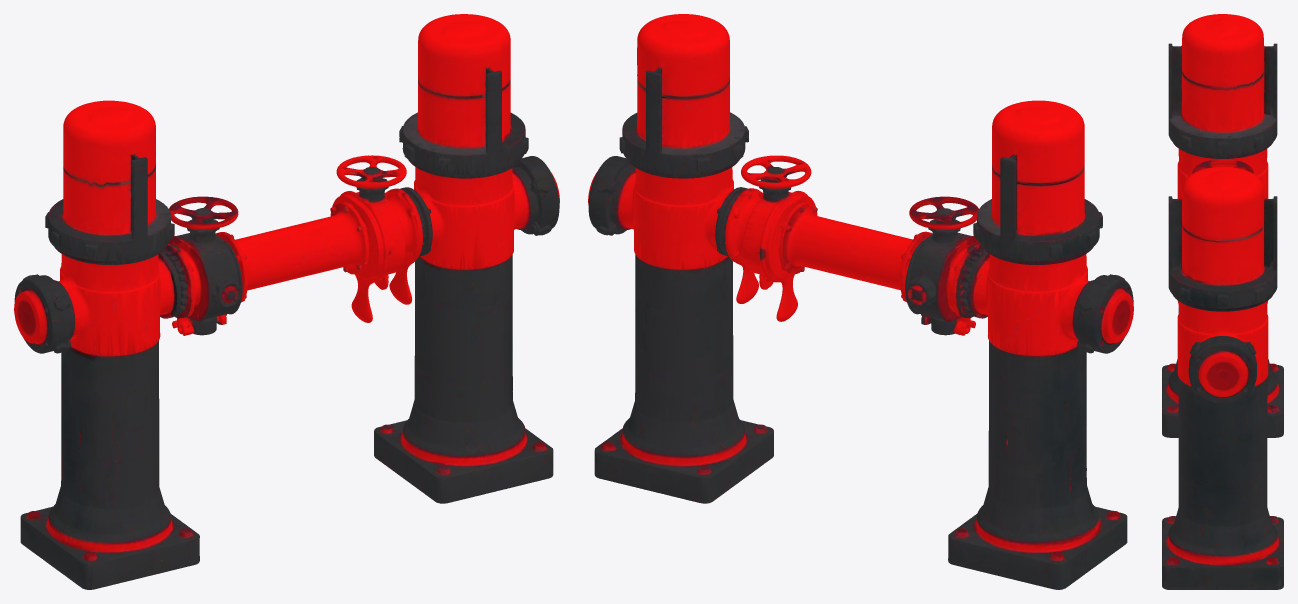
File: sauce_gate.glb
3 views of the same model, side by side, from view 1: azimuth 30°, elevation 25°; view 2: azimuth 150°, elevation 25°; view 3: azimuth 270°, elevation 25° (orthographic). The views are drawn at different scales.
Size of the model in its own units: 1.9 by 1.53 by 0.4363.
Materials: 1 (1 with a texture image).
